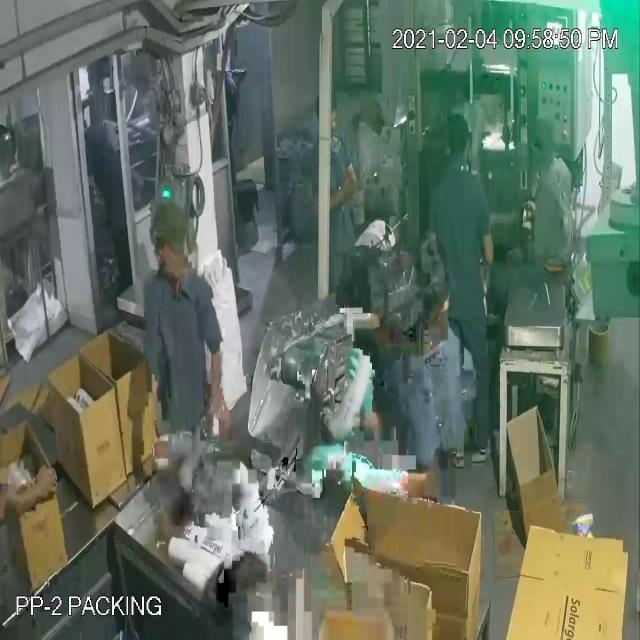No_Gloves: (38, 48, 334, 486)
